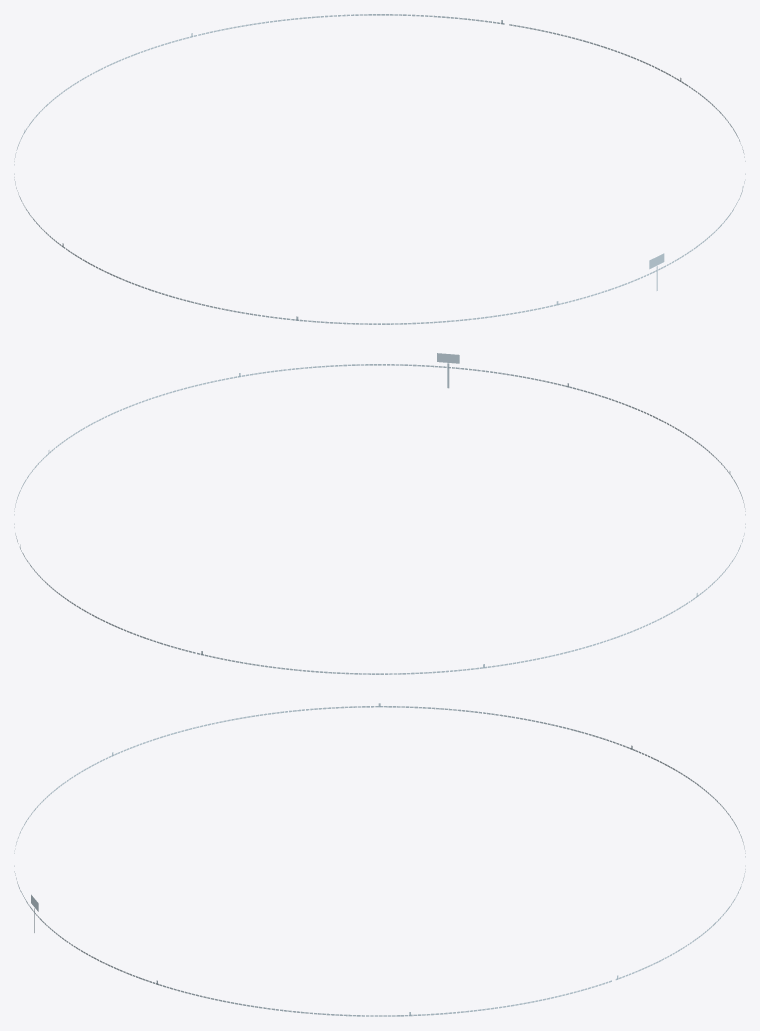
3 views of the same model, one above another, from view 1: azimuth 30°, elevation 25°; view 2: azimuth 150°, elevation 25°; view 3: azimuth 270°, elevation 25° (orthographic).
Bounding box in the file's own units: 57.99 × 3 × 57.99.
